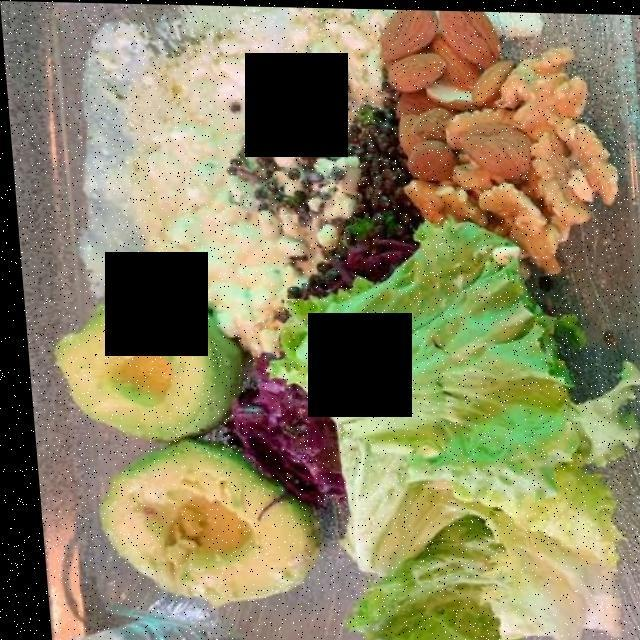almonds: (379, 13, 492, 172)
avocado: (39, 298, 341, 610)
cabbage: (223, 341, 331, 524)
cheese: (144, 179, 290, 365)
lentils: (239, 79, 411, 283)
salad: (268, 206, 602, 635)
walnut: (406, 53, 617, 274)
